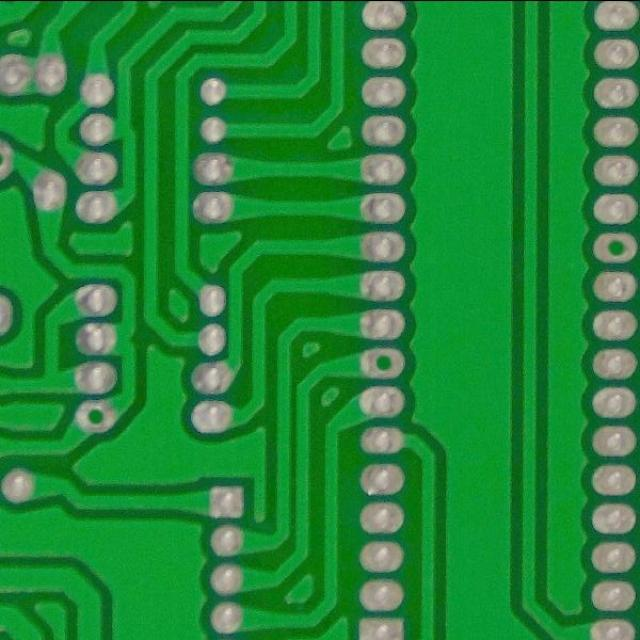Missing_Hole: (66, 392, 124, 440), (586, 224, 640, 270), (355, 341, 411, 384), (0, 135, 23, 184)
